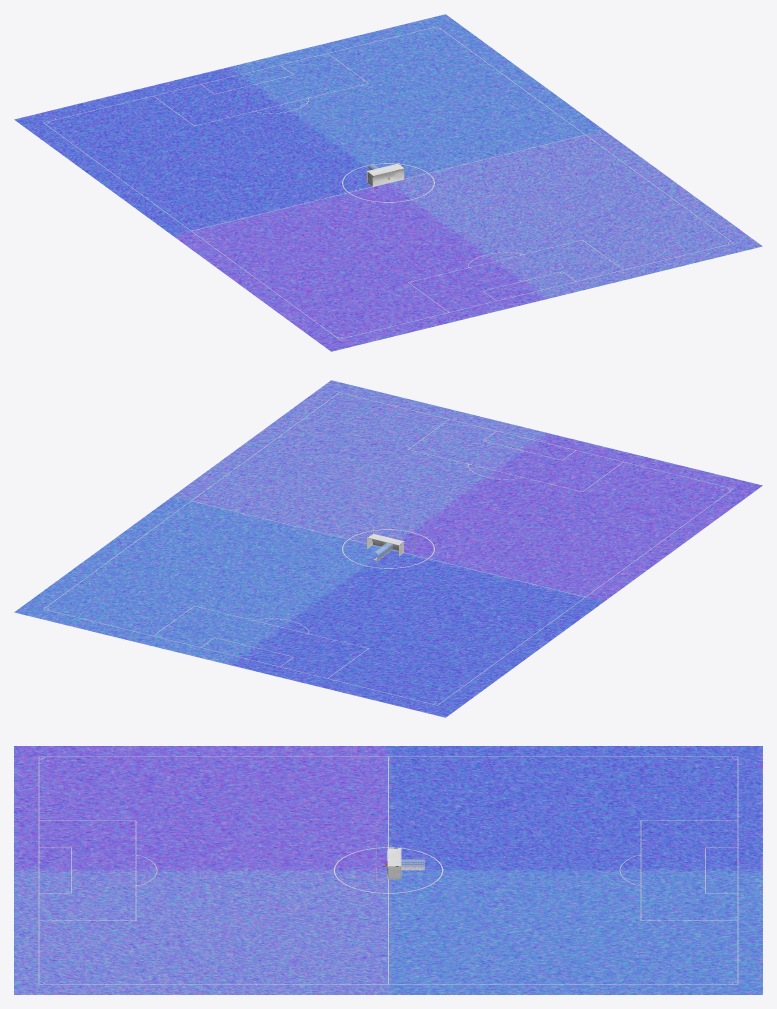
The model's file is FootballPitch.fbx.
3 views of the same model, one above another, from view 1: azimuth 30°, elevation 25°; view 2: azimuth 150°, elevation 25°; view 3: azimuth 270°, elevation 25° (orthographic). The views are drawn at different scales.
Parts seen in each view (by area): view 1: FootballPitch, Goal; view 2: FootballPitch; view 3: FootballPitch, Goal.
Part boxes in pixels (x1,y1,x2,y2): FootballPitch: [14, 14, 762, 351]; Goal: [366, 163, 414, 191]; FootballPitch: [14, 380, 762, 717]; FootballPitch: [14, 746, 762, 994]; Goal: [375, 842, 401, 882].
Bounding box in the file's own units: 10000 × 306 × 12729.
